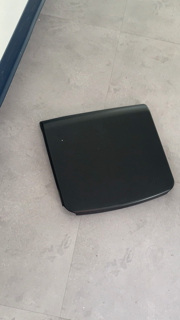Seat: (40, 103, 177, 218)
